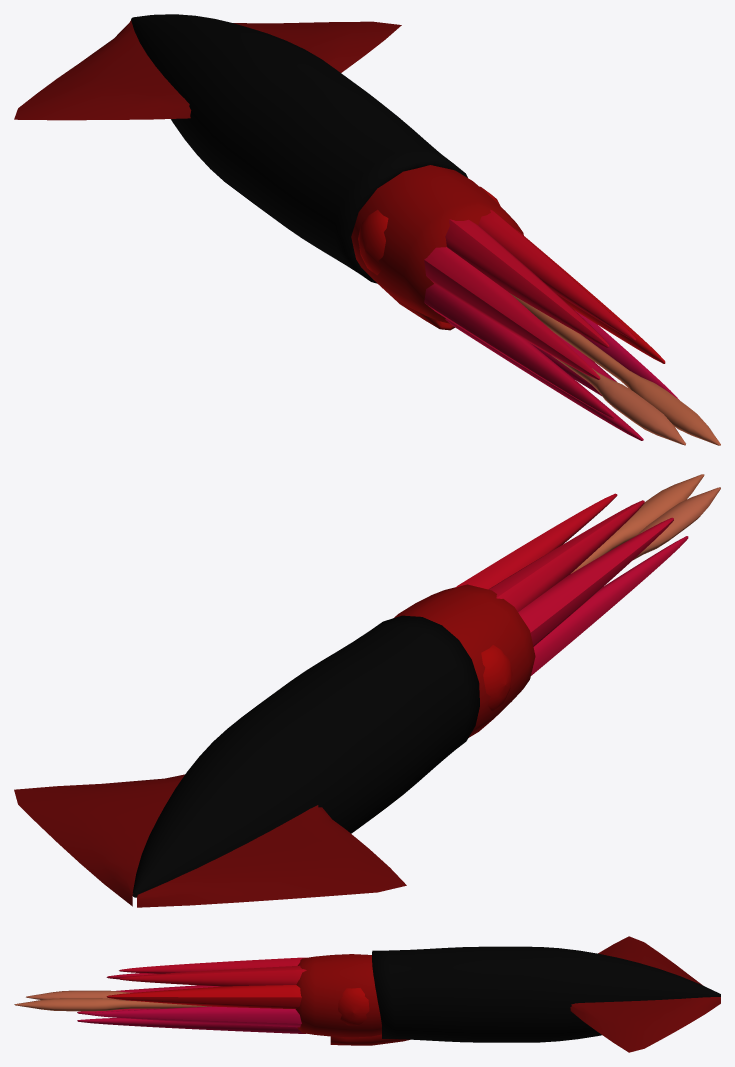
Rendered from humboldt_squid_lo.glb.
3 views of the same model, one above another, from view 1: azimuth 30°, elevation 25°; view 2: azimuth 150°, elevation 25°; view 3: azimuth 270°, elevation 25° (orthographic). The views are drawn at different scales.
Parts seen in each view (by area): view 1: humboldt_squid_lo; view 2: humboldt_squid_lo; view 3: humboldt_squid_lo.
Boxes of the visible parts, bbox=[...] form: humboldt_squid_lo: bbox=[14, 14, 720, 445]; humboldt_squid_lo: bbox=[14, 474, 720, 907]; humboldt_squid_lo: bbox=[14, 936, 720, 1052].
Bounding box in the file's own units: 0.9711 × 0.3628 × 2.49.
